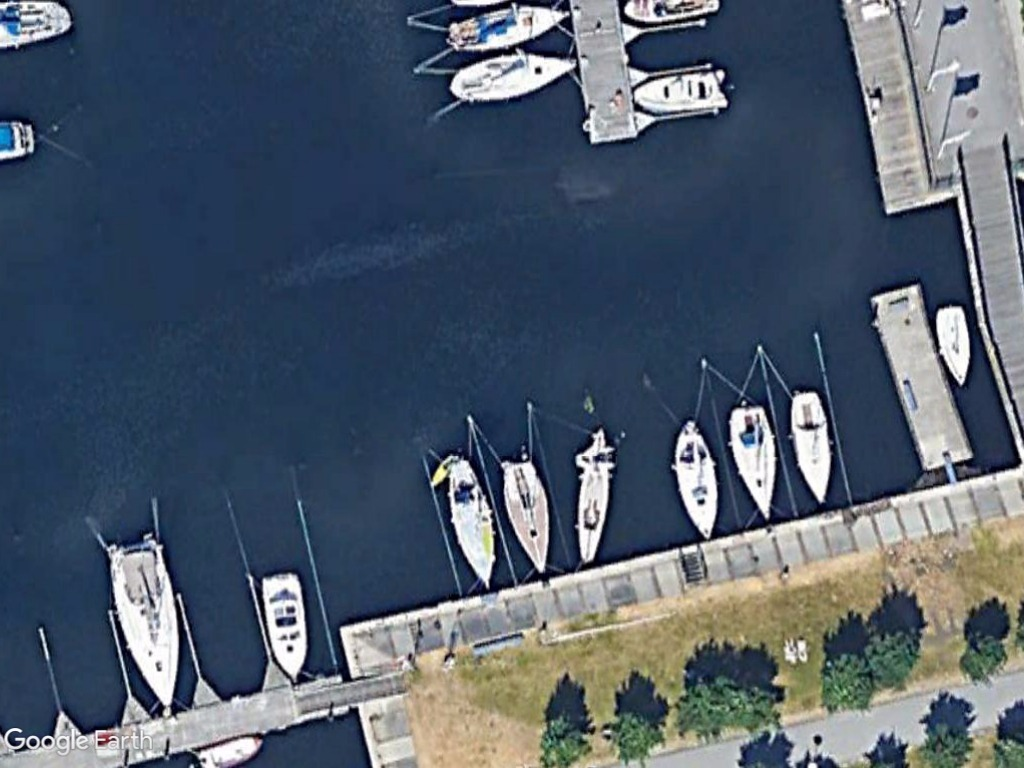boat: (103, 541, 186, 714), (446, 48, 581, 105), (444, 454, 499, 591), (497, 455, 555, 577), (667, 416, 723, 542), (725, 402, 780, 524), (445, 4, 572, 56), (255, 567, 310, 684), (568, 423, 612, 567), (784, 388, 837, 507), (630, 64, 728, 115), (934, 300, 975, 389), (193, 734, 266, 768)
